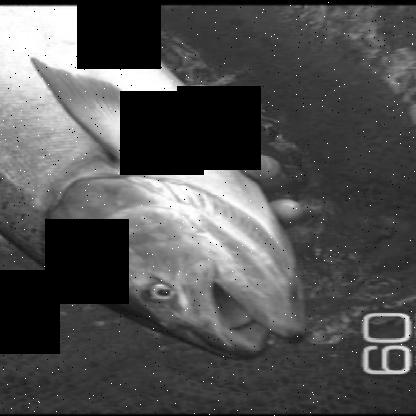fish: (0, 1, 311, 361)
